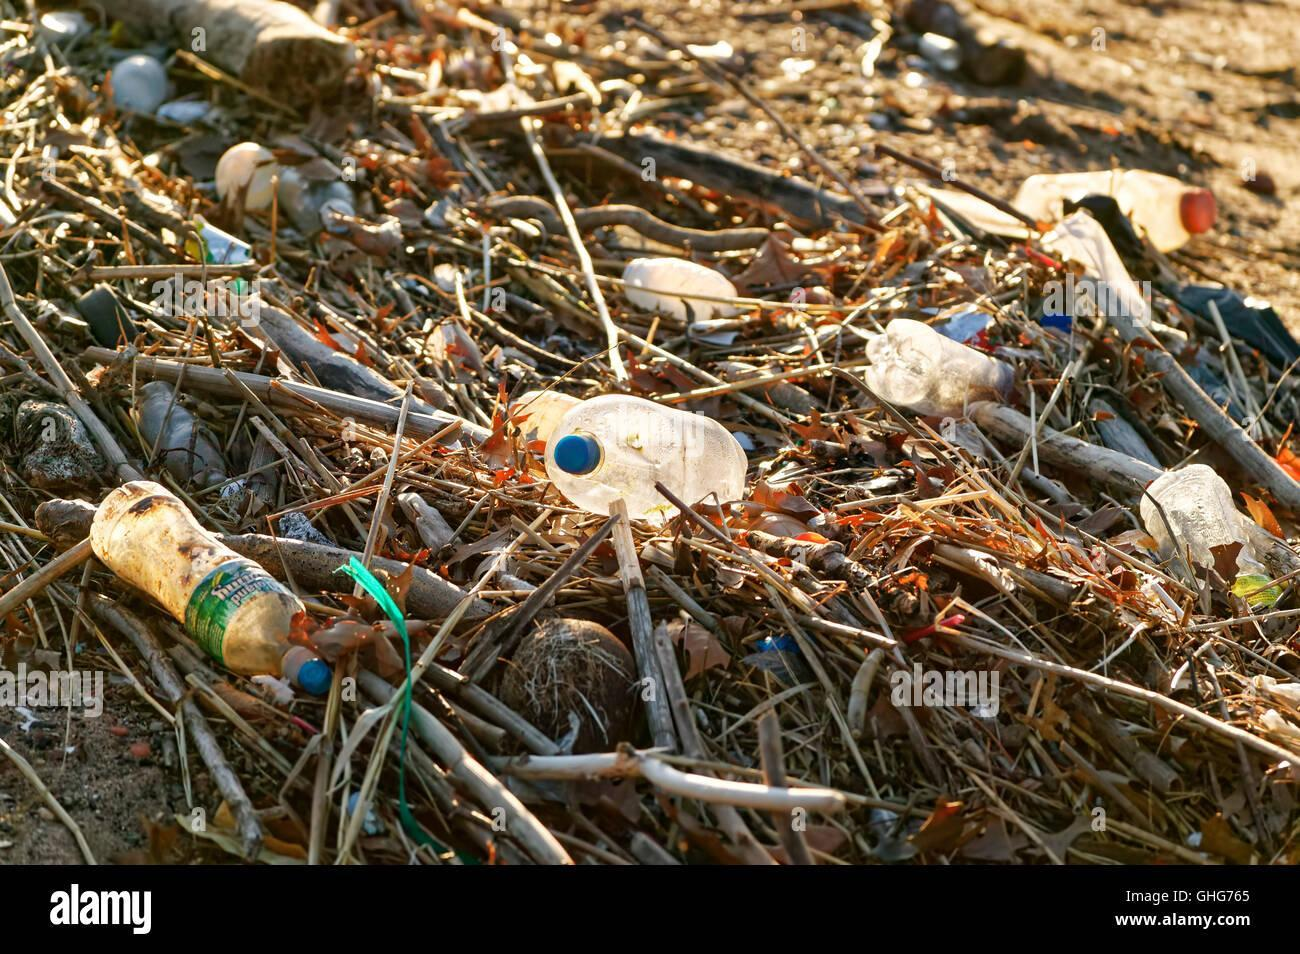bottle: (81, 475, 353, 690), (527, 390, 757, 523), (1130, 452, 1289, 610), (839, 290, 994, 436), (1014, 166, 1222, 258), (127, 377, 231, 494)
